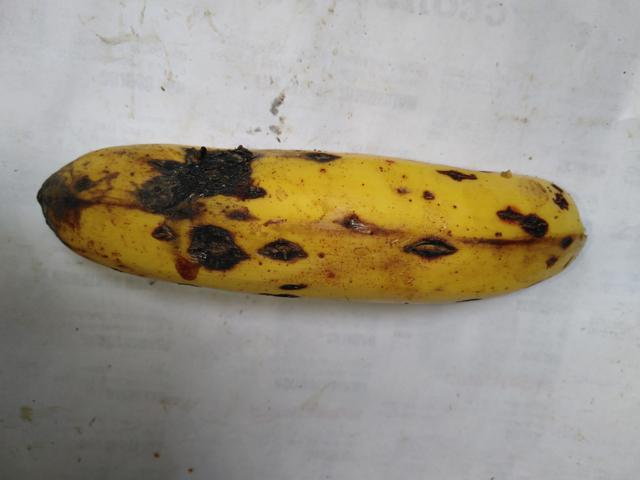rotten: (147, 129, 286, 223), (143, 203, 254, 290), (237, 202, 328, 291), (482, 187, 568, 265), (41, 127, 106, 230), (305, 180, 399, 239), (405, 228, 466, 276), (427, 141, 479, 190), (294, 123, 346, 171)
